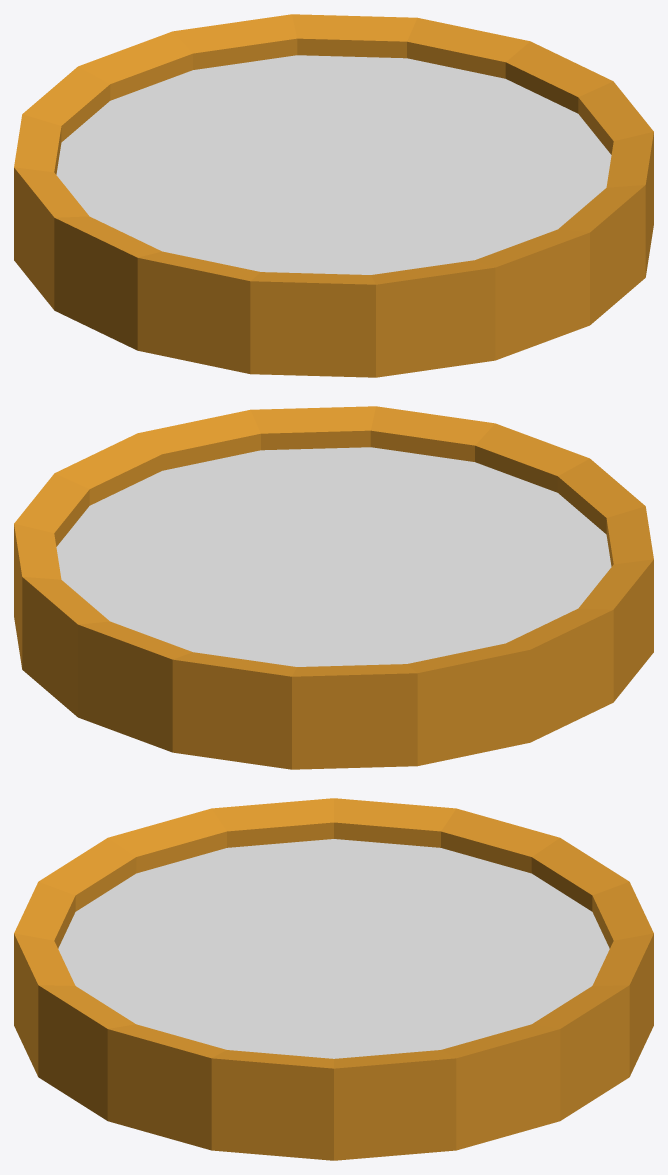
Rendered from Boost.fbx.
The picture shows the model from 3 angles, top to bottom: view 1: azimuth 30°, elevation 25°; view 2: azimuth 150°, elevation 25°; view 3: azimuth 270°, elevation 25°; orthographic projection.
Visible parts, largest first — view 1: Cylinder; view 2: Cylinder; view 3: Cylinder.
Boxes of the visible parts, x1=… form: Cylinder: x1=14, y1=14, x2=653, y2=377; Cylinder: x1=14, y1=406, x2=653, y2=769; Cylinder: x1=14, y1=798, x2=653, y2=1160.
Bounding box in the file's own units: 229 × 229 × 36.36.
